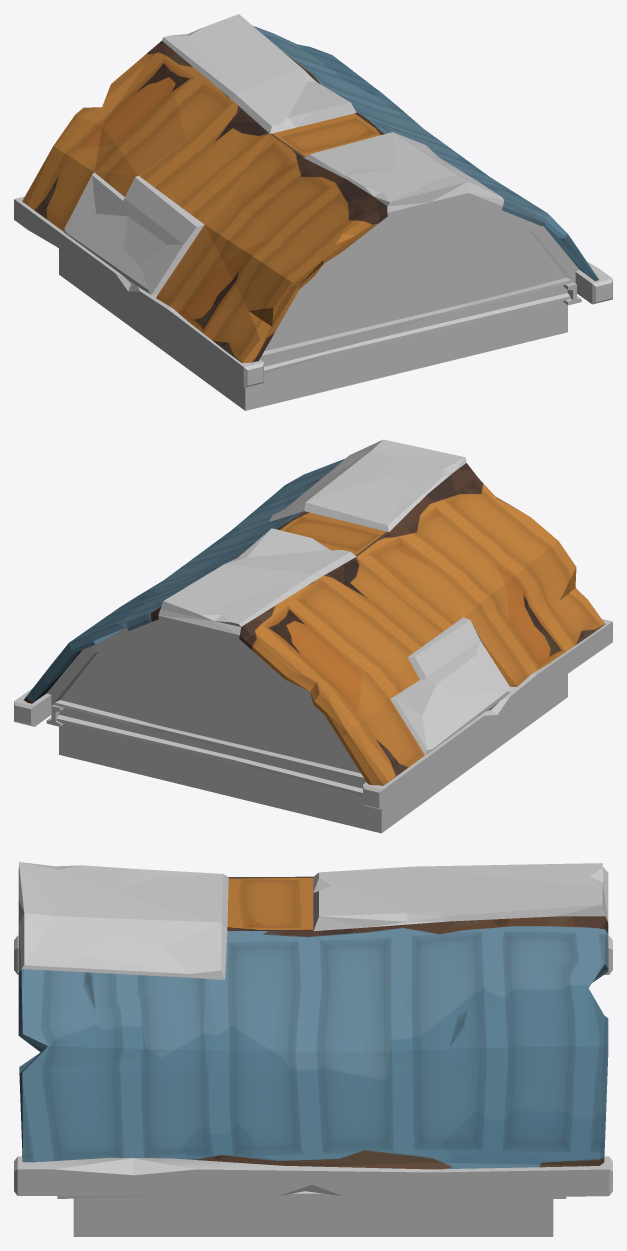
Rendered from SM_Bld_Rooftop_05_Alt_01.fbx.
The picture shows the model from 3 angles, top to bottom: view 1: azimuth 30°, elevation 25°; view 2: azimuth 150°, elevation 25°; view 3: azimuth 270°, elevation 25°; orthographic projection. The views are drawn at different scales.
Parts seen in each view (by area): view 1: SM_Bld_Rooftop_05_Alt_01; view 2: SM_Bld_Rooftop_05_Alt_01; view 3: SM_Bld_Rooftop_05_Alt_01.
Part boxes in pixels (bbox=[...]): SM_Bld_Rooftop_05_Alt_01: bbox=[14, 14, 612, 410]; SM_Bld_Rooftop_05_Alt_01: bbox=[14, 439, 612, 833]; SM_Bld_Rooftop_05_Alt_01: bbox=[14, 862, 612, 1236].
Bounding box in the file's own units: 571 × 292 × 623.
